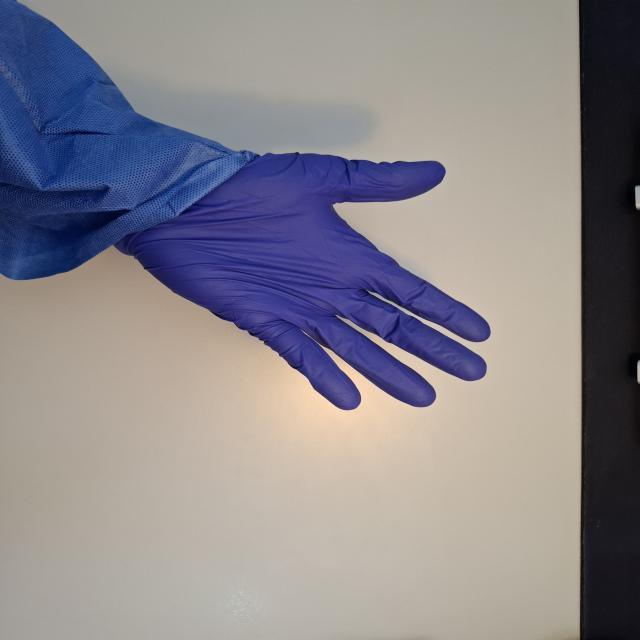glove_on: (113, 148, 495, 412)
